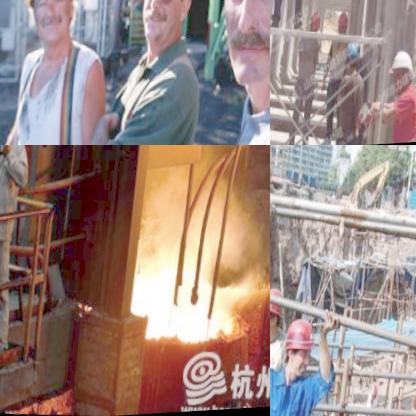helmet: (196, 0, 270, 102), (128, 0, 212, 60), (18, 0, 90, 54), (280, 319, 316, 380), (338, 42, 366, 92), (389, 52, 415, 98), (270, 285, 287, 339), (306, 5, 326, 46), (332, 14, 350, 44)
